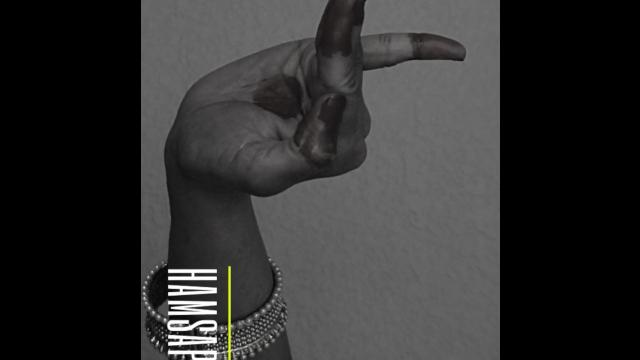Hamsapaksha: (158, 0, 499, 235)
